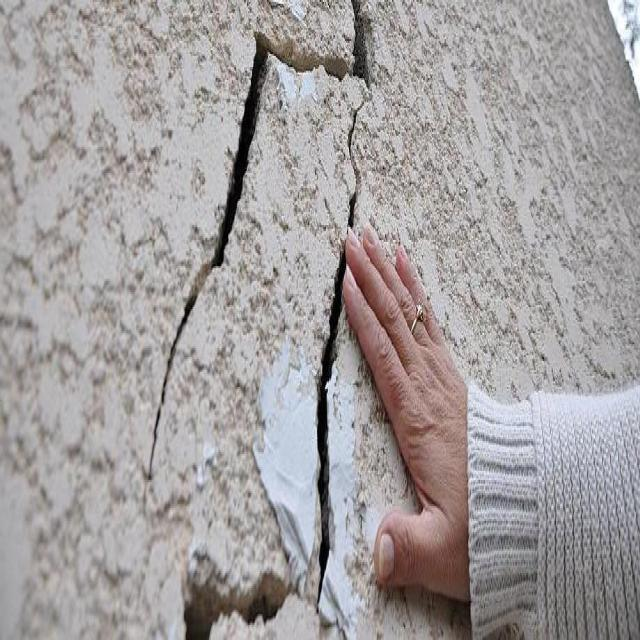crack: (148, 0, 371, 476), (316, 244, 346, 605)
